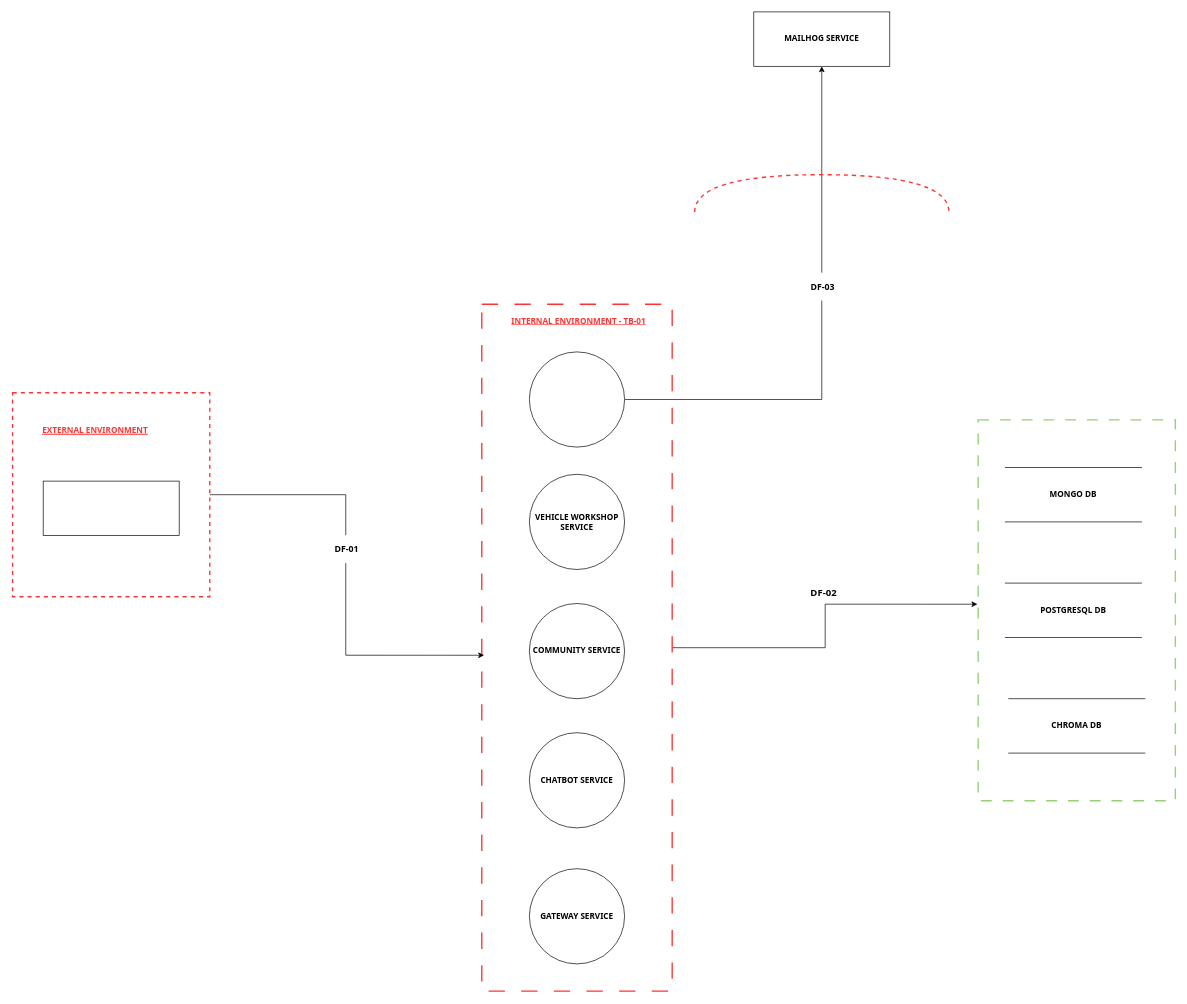
Some shapes in this 1187 by 1004 pixel diagram are drawn without their labels. The box of each missing label's shape, as (x1, y1, x2, y2) in pixels:
IDENTITY SERVICE: (529, 351, 625, 447)
INTERNAL ENVIRONMENT - TB-02: (977, 419, 1176, 801)
TB-03: (694, 174, 949, 212)
WEB INGRESS SERVICE: (42, 480, 179, 536)
